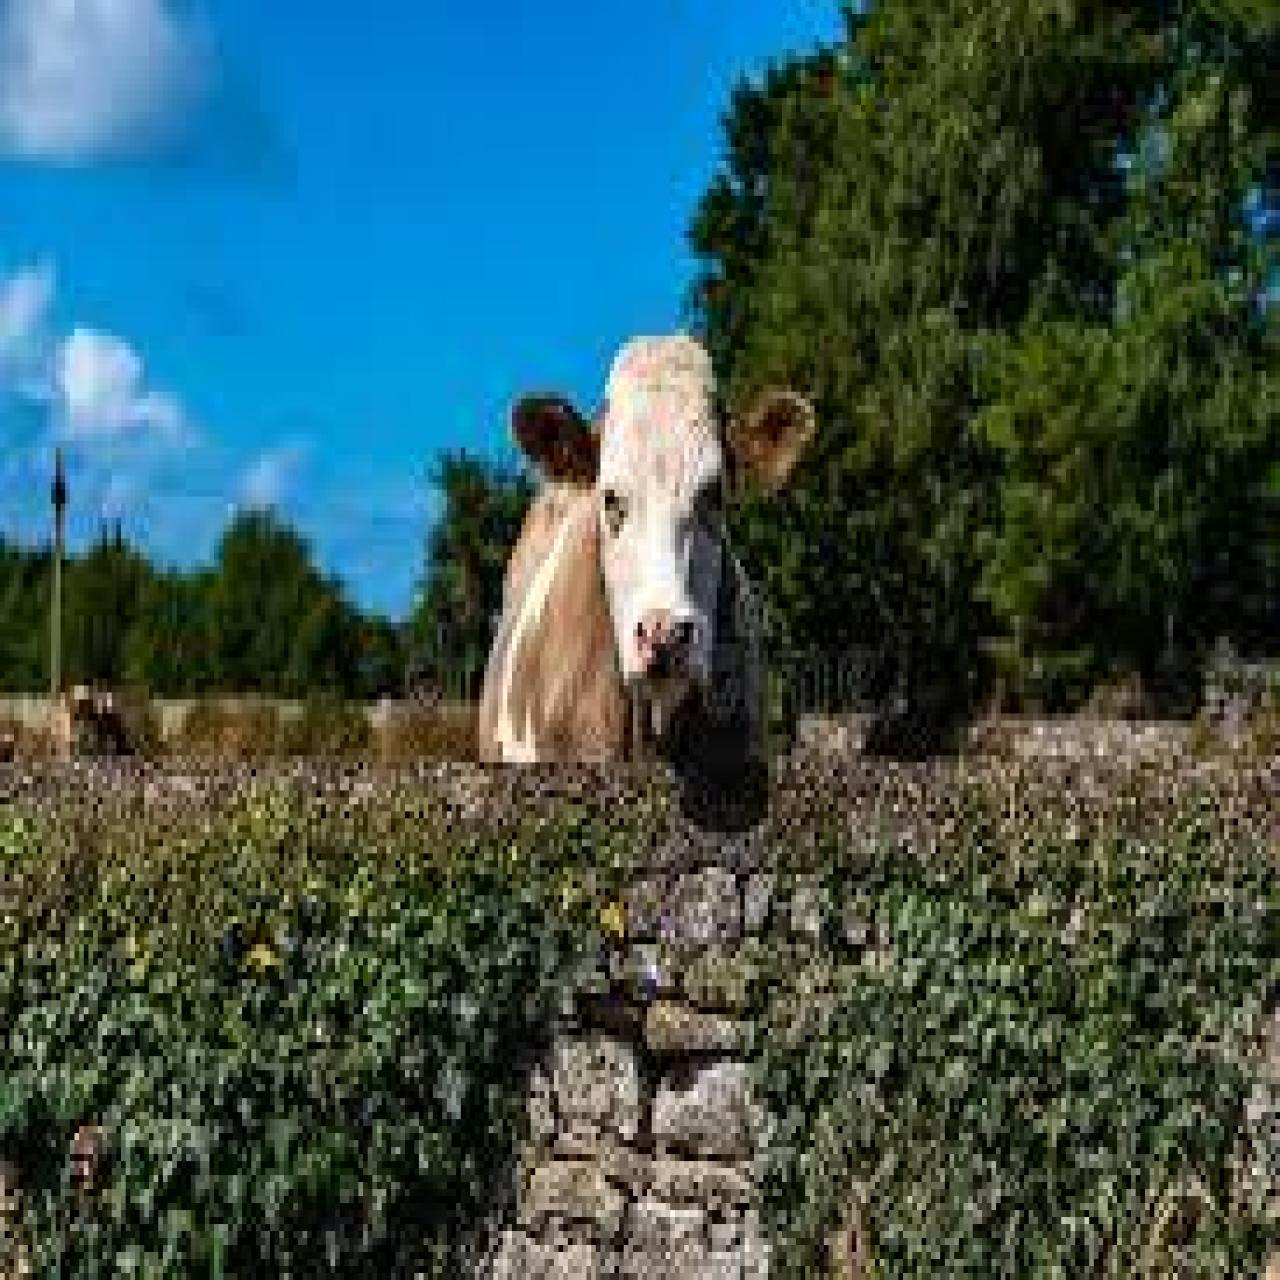cow: (477, 339, 817, 772)
